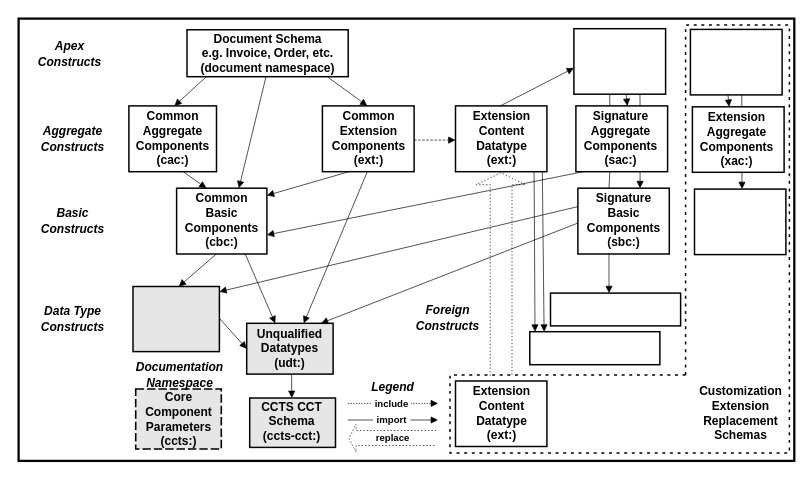
The diagram is 812 pixels wide and 479 high, and some of its shapes have lost their labels. The centre of each missing label's shape, as x and y in pixels:
"Common Signature Components (sig:)" goes at pixel 619 61.
"Extension Basic Components (xbc:)" goes at pixel 739 221.
"Extension Signature Components (xxx:)" goes at pixel 735 61.
"Qualified/ Specialized Datatypes (qdt:)" goes at pixel 176 318.
"W3C Digital Signature Schema (ds:)" goes at pixel 615 309.
"XAdES Schemas v2.3.1 and v1.4.1" goes at pixel 594 347.
